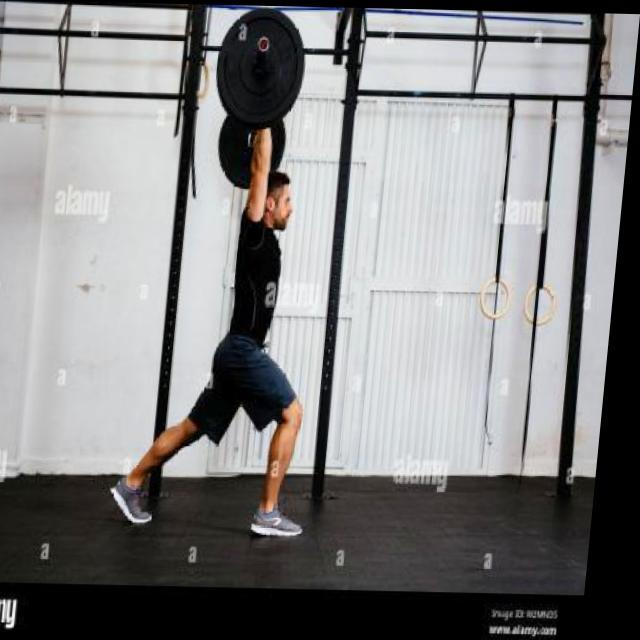barbell: (211, 5, 312, 134)
